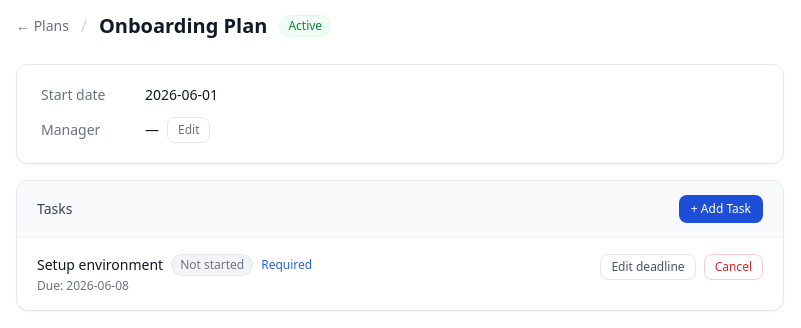
Test: PlanDetailPage › no button dismisses confirmation
Expected: the text "Setup environment" is shown, [37,255,163,275]
Click the button "Cancel".
click(733, 267)  # box [704,254,763,280]
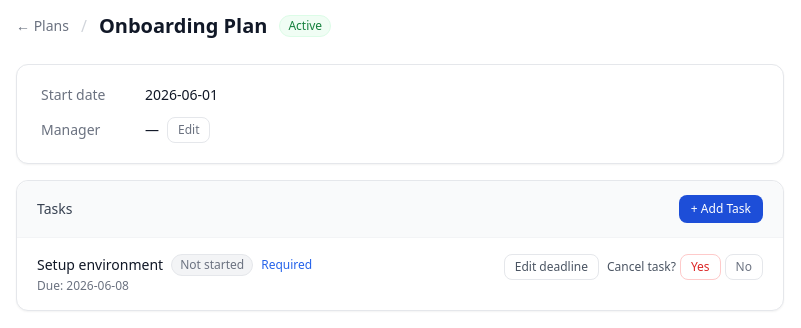
Click the button "No".
click(744, 267)  # box [725,254,763,280]
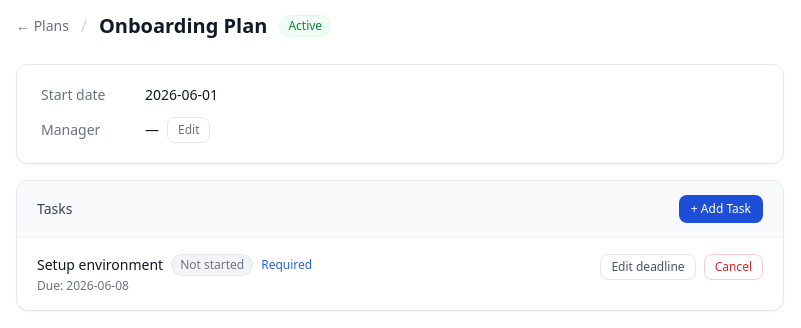
Expected: the text "Cancel task?" is gone
